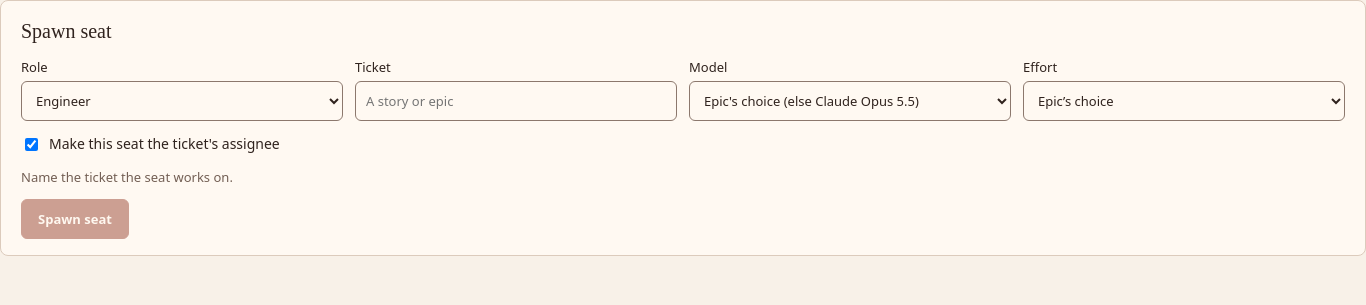
Test: SpawnSeatForm (S-ROLES) › shows the board's refusal verbatim
Type "s-2" into the field with test id "spawn-seat-ticket" at (516, 101), box [355,81,677,121]
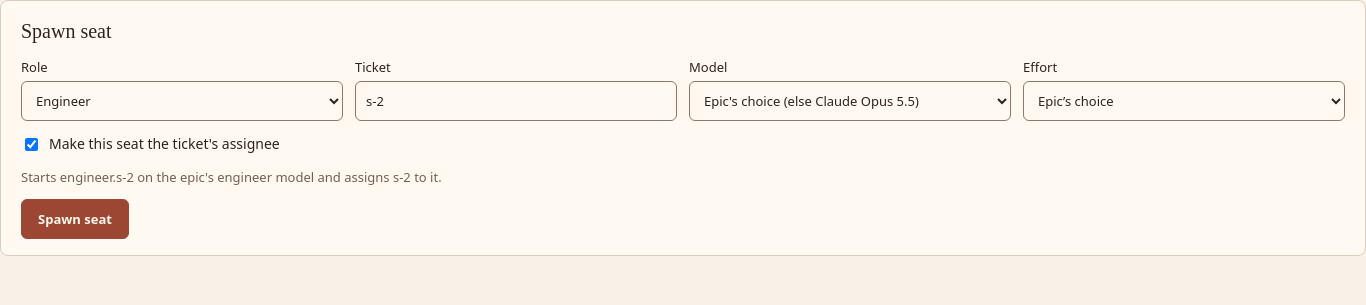
Click the button with test id "spawn-seat-submit" at (75, 219), box [21,199,129,239]
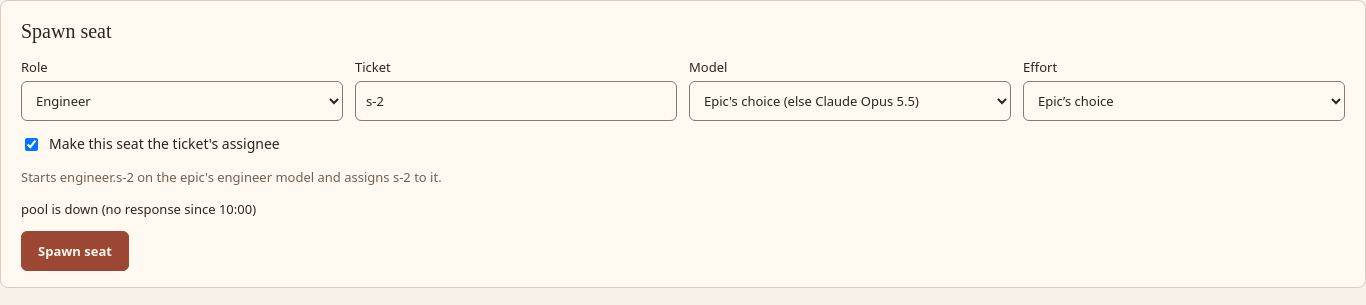
Now the message with test id "spawn-seat-error" reads "pool is down (no response since 10:00)", box [21,200,256,218]
